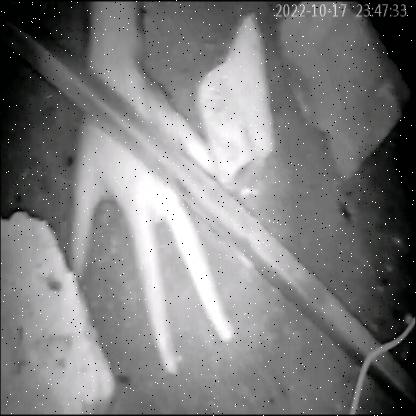hand: (32, 49, 282, 396)
